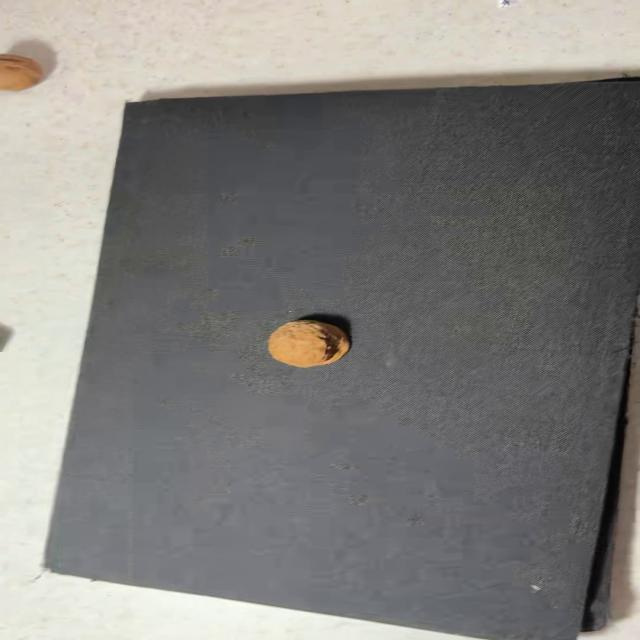nuts-bad0.5: (268, 320, 350, 368)
